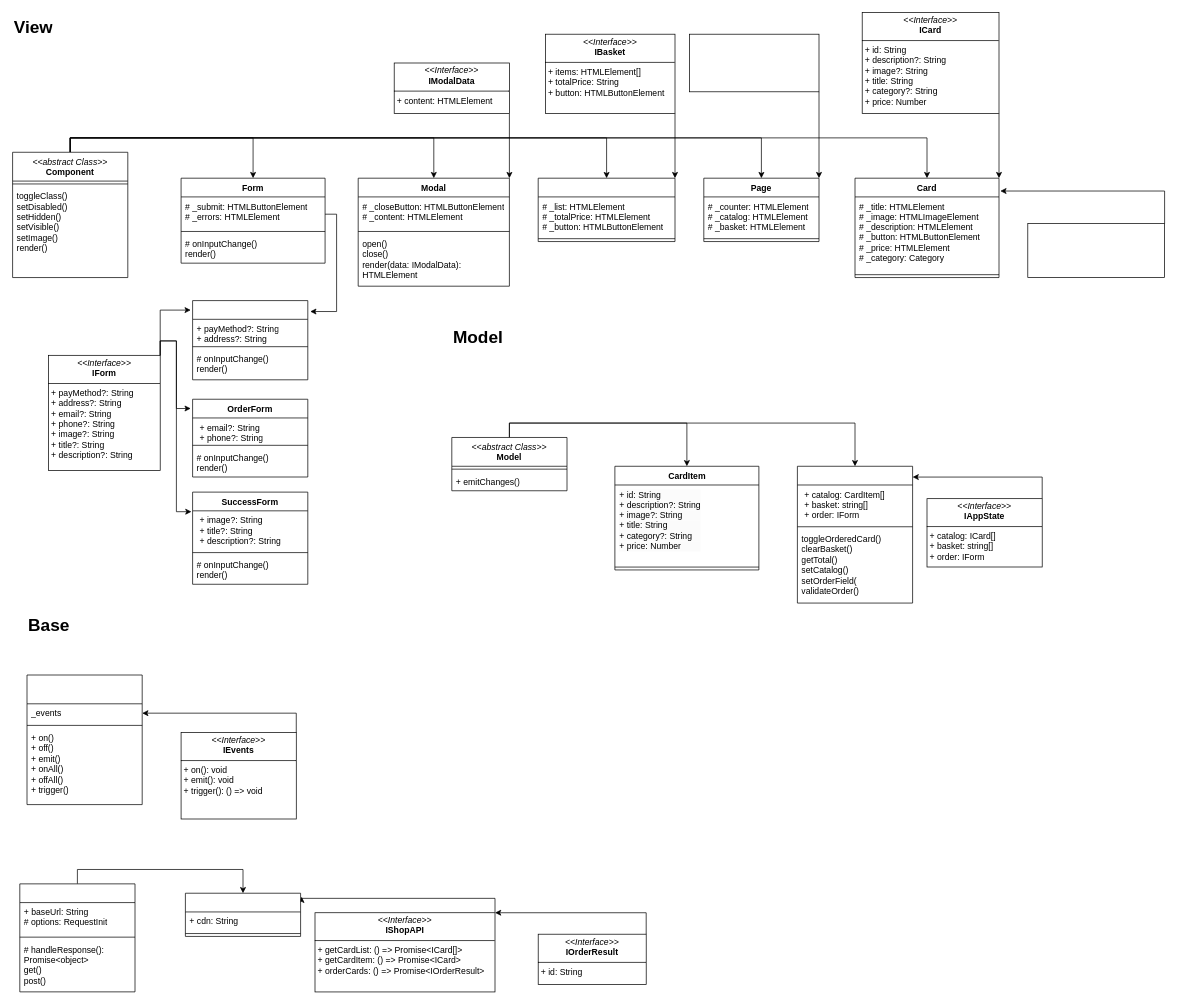
This 1183x1007 diagram has some shape labels left out. Each missing label, with the box of its shape:
<<Interface>> IPage + counter: number + catalog: HTMLElement[]: (689, 33, 819, 92)
<<Type>> Category + category: String[]: (1027, 223, 1165, 278)
Api: (19, 883, 135, 992)
AppState: (797, 466, 913, 603)
Basket: (537, 177, 675, 242)
EventEmitter: (26, 674, 142, 805)
PaymentForm: (192, 300, 308, 380)
ShopAPI: (185, 893, 301, 936)
